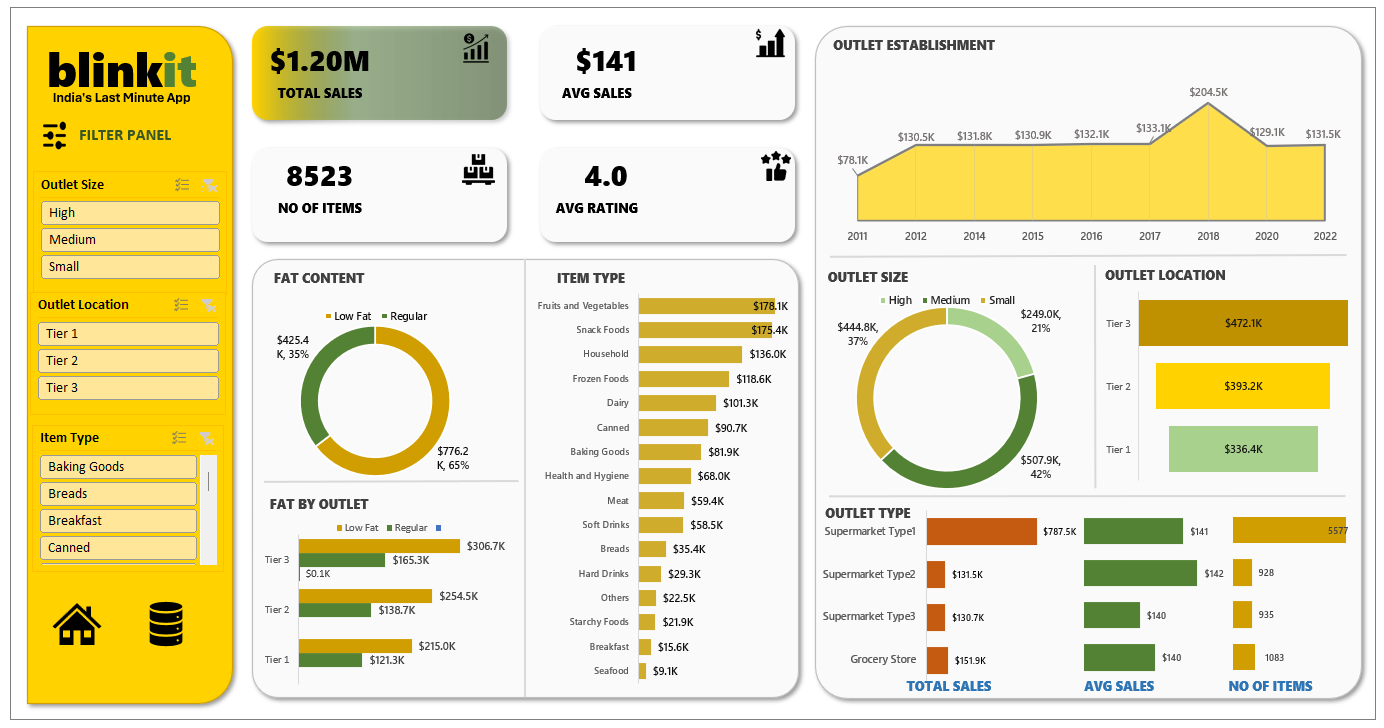

Layout of this report page (visuals, bound fields, positions):
{"tool":"powerbi","page":{"name":"Home","canvas":[1400,800],"ordinal":0},"visuals":[{"type":"shape","box":[13.8,8.8,203.8,767.5],"z":0},{"type":"textbox","box":[31.8,28.8,174.1,82.5],"z":1000},{"type":"textbox","box":[16.6,85,205,35],"z":2000},{"type":"cardVisual","fields":{"Data":["BlinkIT Grocery Data.Total Sales","BlinkIT Grocery Data.Avg Sales","BlinkIT Grocery Data.No of Items","BlinkIT Grocery Data.Avg Rating"]},"box":[217.8,8.7,570,260],"z":3000},{"type":"shape","box":[225,258.8,555,517.5],"z":4000},{"type":"donutChart","title":"FAT CONTENT","fields":{"Y":["BlinkIT Grocery Data.Total Sales"],"Category":["BlinkIT Grocery Data.Item Fat Content"]},"box":[242.8,309.5,220,230],"z":5000},{"type":"slicer","fields":{"Values":["Metrics.Metrics"]},"box":[270.3,269.5,465,40],"z":6000},{"type":"cardVisual","fields":{"Data":["BlinkIT Grocery Data.Total Sales"]},"box":[299.1,411.2,107.5,66.2],"z":7000},{"type":"clusteredBarChart","title":"FAT BY OUTLET","fields":{"Y":["BlinkIT Grocery Data.Total Sales"],"Category":["BlinkIT Grocery Data.Outlet Location Type"],"Series":["BlinkIT Grocery Data.Item Fat Content"]},"box":[242.9,535.1,220,230],"z":8000},{"type":"shape","box":[242.8,518.7,220,20],"z":9000},{"type":"shape","box":[477.8,312.5,15.3,431.5],"z":10000},{"type":"barChart","title":"ITEM TYPE","fields":{"Y":["BlinkIT Grocery Data.Total Sales"],"Category":["BlinkIT Grocery Data.Item Type"]},"box":[491.2,310.8,272.5,441.2],"z":11000},{"type":"shape","box":[781.2,20,618.8,756.2],"z":12000},{"type":"lineChart","title":"OUTLET ESTABLISHMENT","fields":{"Category":["BlinkIT Grocery Data.Outlet Establishment Year"],"Y":["BlinkIT Grocery Data.Total Sales"]},"box":[797.1,34.3,575.7,235.7],"z":13000},{"type":"shape","box":[797.4,269.4,575.7,20],"z":14000},{"type":"donutChart","title":"OUTLET SIZE","fields":{"Y":["BlinkIT Grocery Data.Total Sales"],"Category":["BlinkIT Grocery Data.Outlet Size"]},"box":[797.4,288,275,225],"z":15000},{"type":"shape","box":[1065,291.2,7.5,227.5],"z":16000},{"type":"funnel","title":"OUTLET LOCATION","fields":{"Y":["Sum(BlinkIT Grocery Data.Sales)"],"Category":["BlinkIT Grocery Data.Outlet Location Type"]},"box":[1085.3,287.5,288.8,225],"z":17000},{"type":"shape","box":[797.5,525,575,20],"z":18000},{"type":"pivotTable","title":"OUTLET TYPE","fields":{"Rows":["BlinkIT Grocery Data.Outlet Type"],"Values":["BlinkIT Grocery Data.Total Sales","BlinkIT Grocery Data.No of Items","BlinkIT Grocery Data.Avg Sales","BlinkIT Grocery Data.Avg Rating","Avg(BlinkIT Grocery Data.Item Visibility)"]},"box":[797.5,550,587.5,201.2],"z":19000},{"type":"slicer","fields":{"Values":["BlinkIT Grocery Data.Outlet Location Type"]},"box":[28,222.6,175.5,75],"z":20000},{"type":"slicer","fields":{"Values":["BlinkIT Grocery Data.Outlet Size"]},"box":[28,312.9,175.5,75],"z":21000},{"type":"slicer","fields":{"Values":["BlinkIT Grocery Data.Item Type"]},"box":[28,399.3,175.5,75],"z":22000},{"type":"image","box":[96.7,539.2,36.9,34.3],"z":22001},{"type":"image","box":[96.7,587.6,38.2,39.4],"z":22002},{"type":"actionButton","box":[96.7,644.8,38.2,39.4],"z":22003},{"type":"image","box":[44.2,170.3,43.2,35.6],"z":22004,"group":"g1"},{"type":"textbox","box":[77.3,170.3,117,35.6],"z":22005,"group":"g1"},{"type":"group","id":"g1","title":"Group 1","box":[44.2,170.3,150.1,35.6],"z":22006}]}

Visuals, with their boxes on the page's 1400x800 design canvas (x1, y1, x2, y2). These are canvas units, not pixel positions in the 1384x728 screenshot, which may show the page scaled, cropped or inside an application window:
shape: box=[14, 9, 218, 776]
textbox: box=[32, 29, 206, 111]
textbox: box=[17, 85, 222, 120]
cardVisual - BlinkIT Grocery Data.Total Sales x BlinkIT Grocery Data.Avg Sales: box=[218, 9, 788, 269]
shape: box=[225, 259, 780, 776]
"FAT CONTENT" donutChart: box=[243, 310, 463, 540]
slicer - Metrics.Metrics: box=[270, 270, 735, 310]
cardVisual - BlinkIT Grocery Data.Total Sales: box=[299, 411, 407, 477]
"FAT BY OUTLET" clusteredBarChart: box=[243, 535, 463, 765]
shape: box=[243, 519, 463, 539]
shape: box=[478, 312, 493, 744]
"ITEM TYPE" barChart: box=[491, 311, 764, 752]
shape: box=[781, 20, 1400, 776]
"OUTLET ESTABLISHMENT" lineChart: box=[797, 34, 1373, 270]
shape: box=[797, 269, 1373, 289]
"OUTLET SIZE" donutChart: box=[797, 288, 1072, 513]
shape: box=[1065, 291, 1072, 519]
"OUTLET LOCATION" funnel: box=[1085, 288, 1374, 512]
shape: box=[798, 525, 1372, 545]
"OUTLET TYPE" pivotTable: box=[798, 550, 1385, 751]
slicer - BlinkIT Grocery Data.Outlet Location Type: box=[28, 223, 204, 298]
slicer - BlinkIT Grocery Data.Outlet Size: box=[28, 313, 204, 388]
slicer - BlinkIT Grocery Data.Item Type: box=[28, 399, 204, 474]
image: box=[97, 539, 134, 574]
image: box=[97, 588, 135, 627]
actionButton: box=[97, 645, 135, 684]
image: box=[44, 170, 87, 206]
textbox: box=[77, 170, 194, 206]
"Group 1" group: box=[44, 170, 194, 206]
